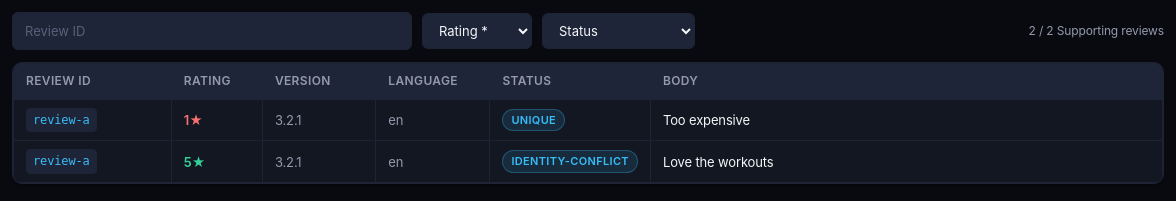
Scenario: ReviewsTable › filters by rating
The width and height of the screenshot is (1176, 201).
Expected: the text "Too expensive" is shown, top-left (650, 99), bottom-right (1162, 141)
Expected: the text "Love the workouts" is shown, top-left (650, 141), bottom-right (1162, 182)
Select "1★" in the dropdown named "rating": (477, 31) top-left (422, 13), bottom-right (532, 49)
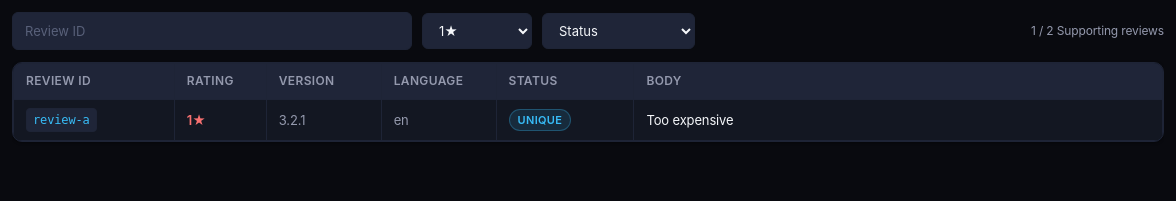
Expected: the text "Too expensive" is shown, top-left (634, 99), bottom-right (1162, 141)
Expected: the text "Love the workouts" is gone
